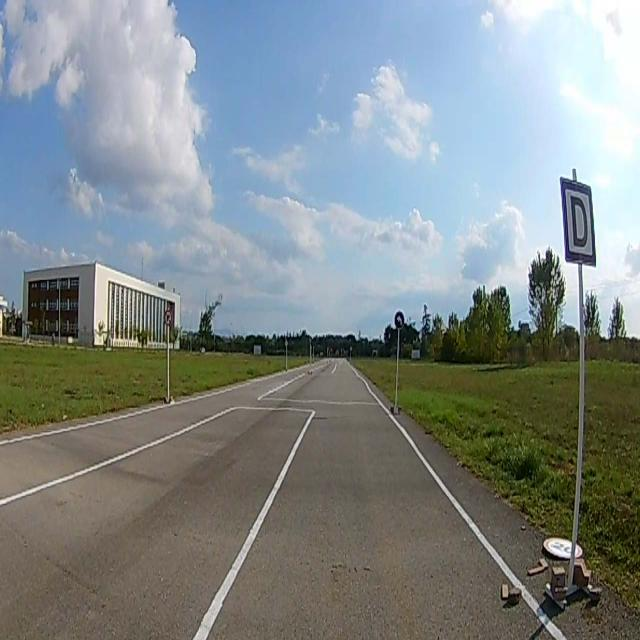durak: (561, 179, 596, 265)
sagadonulmez: (164, 308, 172, 324)
sol: (394, 312, 404, 329)
